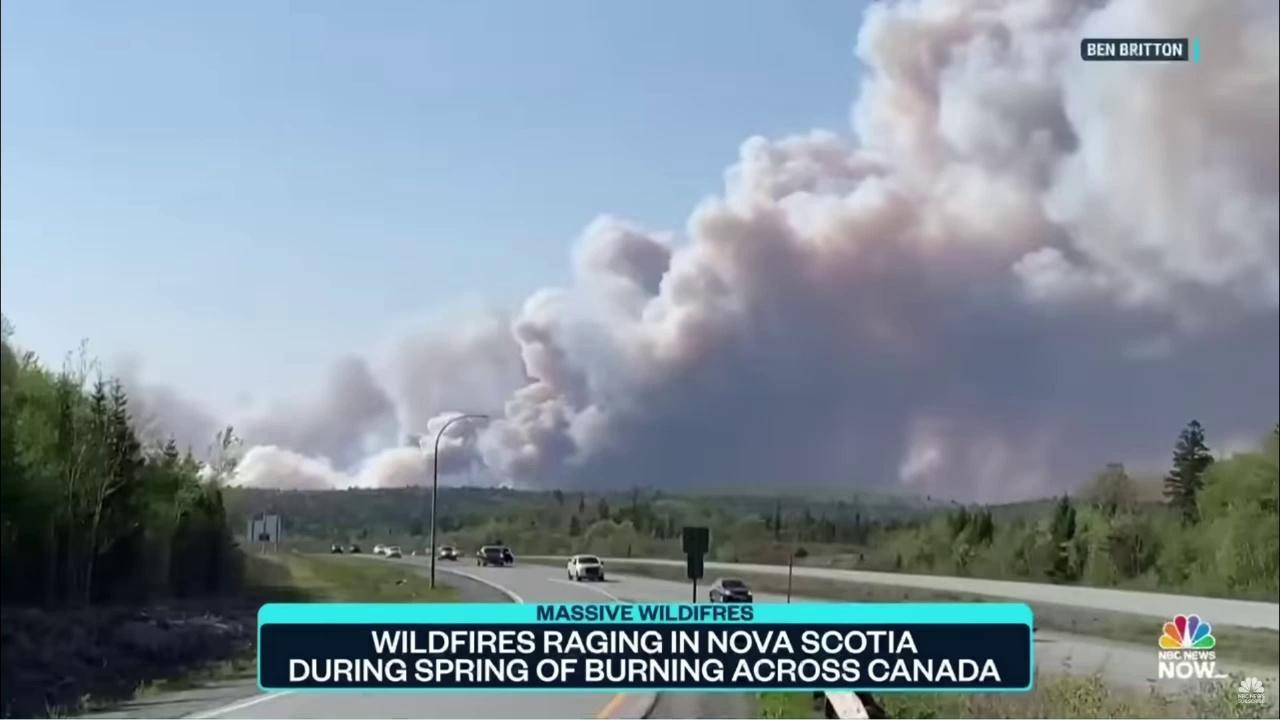smoke: (94, 0, 1280, 504)
